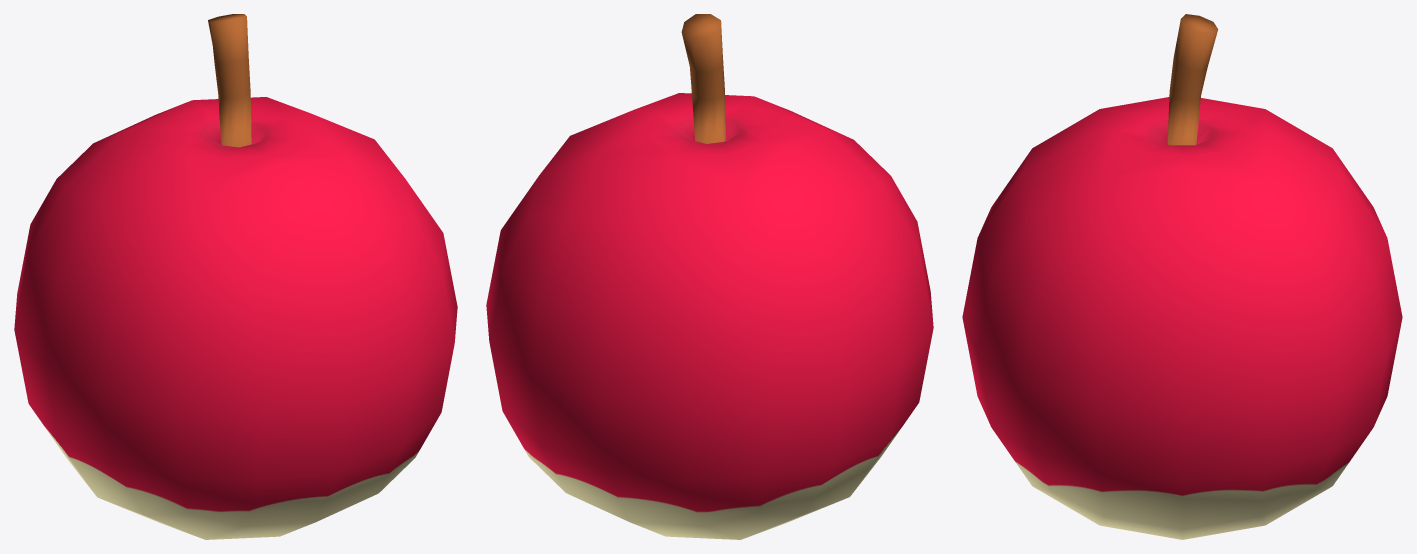
The model's file is Apple_Red.fbx.
3 renders of one model, left to right at view 1: azimuth 30°, elevation 25°; view 2: azimuth 150°, elevation 25°; view 3: azimuth 270°, elevation 25°, orthographic.
Parts seen in each view (by area): view 1: Cube.001; view 2: Cube.001; view 3: Cube.001.
Boxes of the visible parts, x1,y1,x2,y2 form: Cube.001: [14, 14, 457, 539]; Cube.001: [486, 14, 933, 539]; Cube.001: [962, 14, 1402, 539].
Bounding box in the file's own units: 168 × 210 × 168.
Materials: 1 (1 with a texture image).
